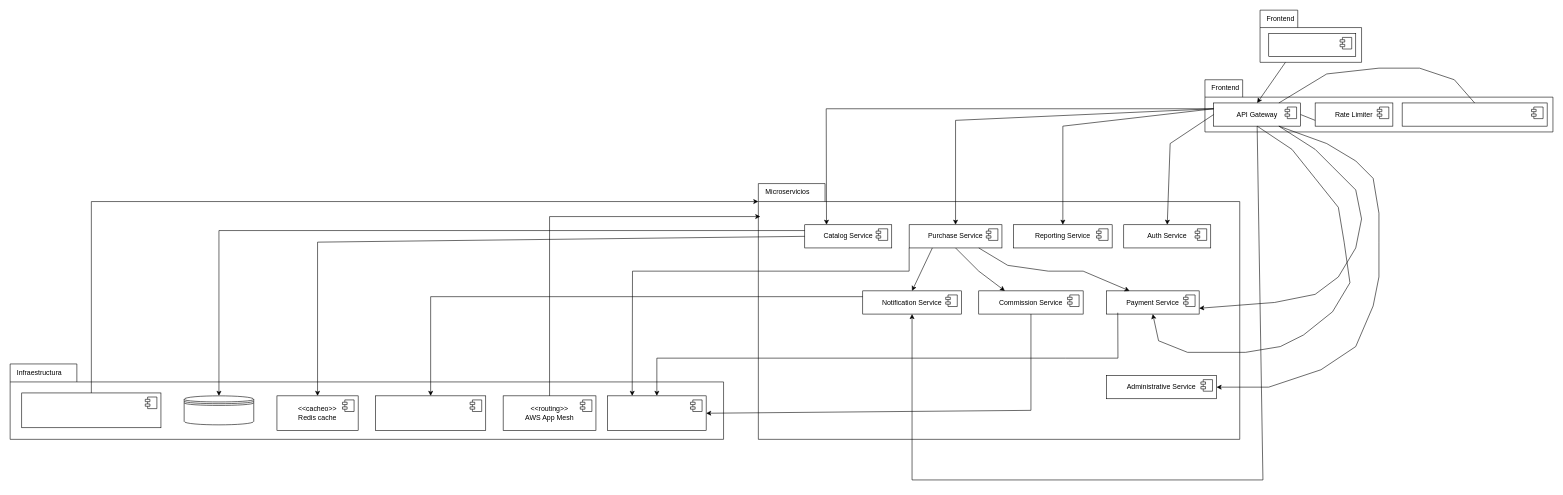
The diagram is 1563 pixels wide and 495 high, and some of its shapes have lost their labels. Here are the shapes that lost their labels. From the top down, the centre of each, then its label:
At point (1312, 45): "web / App".
At point (1474, 114): "Auth Middleware <<JWT + Roles>>".
At point (91, 410): "<<monitoring>> Granafa + Amazon CloudWatch".
At point (219, 410): "Amazon RDS".
At point (430, 413): "<<notification-driven>> AWS SNS".
At point (656, 413): "<<event-driven>> AWS SQS".
